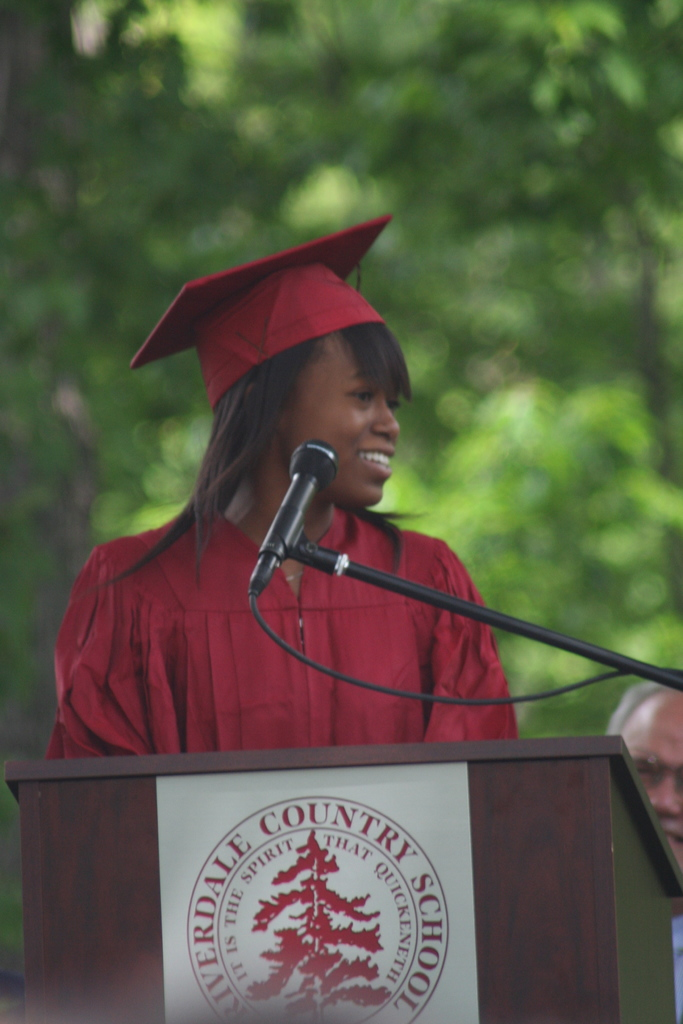face: (296, 319, 400, 506)
